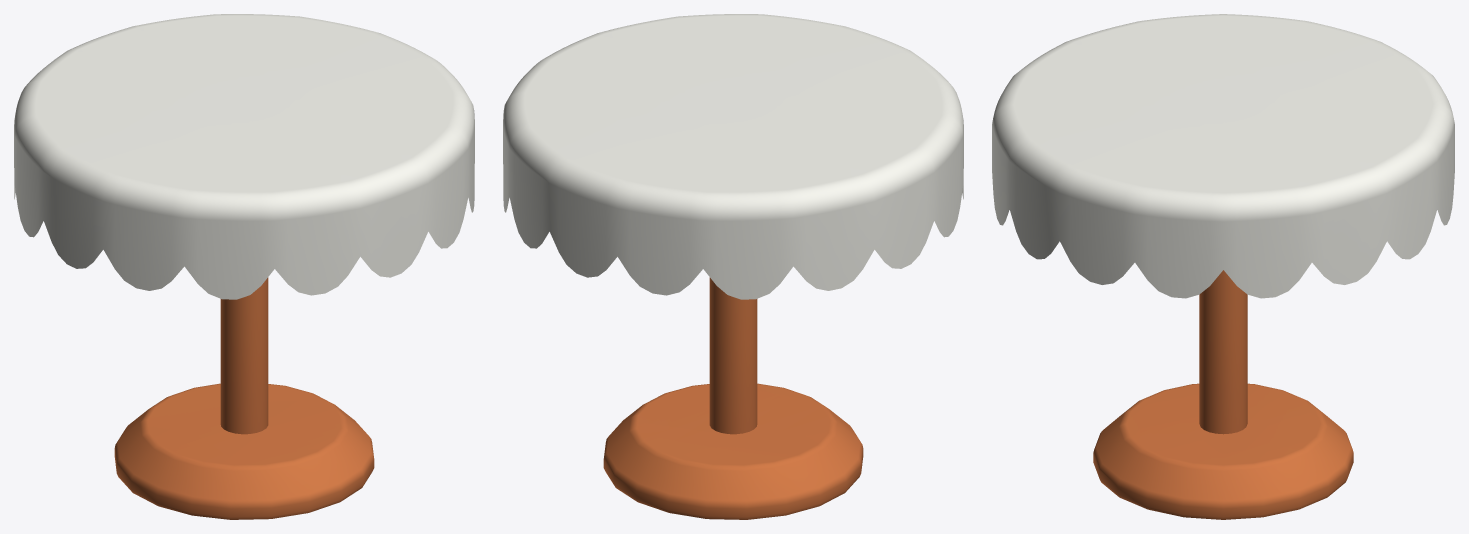
The model's file is table.fbx.
3 views of the same model, side by side, from view 1: azimuth 30°, elevation 25°; view 2: azimuth 150°, elevation 25°; view 3: azimuth 270°, elevation 25° (orthographic).
Visible parts, largest first — view 1: pCylinder1, pCylinder3, pCylinder2; view 2: pCylinder1, pCylinder3, pCylinder2; view 3: pCylinder1, pCylinder3, pCylinder2.
Part boxes in pixels (x1,y1,x2,y2): pCylinder1: [14, 14, 474, 299]; pCylinder3: [114, 383, 374, 519]; pCylinder2: [220, 277, 268, 434]; pCylinder1: [503, 14, 963, 299]; pCylinder3: [603, 383, 863, 519]; pCylinder2: [709, 277, 757, 434]; pCylinder1: [992, 14, 1454, 298]; pCylinder3: [1093, 383, 1353, 519]; pCylinder2: [1199, 270, 1247, 434].
Bounding box in the file's own units: 11.72 × 10.14 × 11.72.
